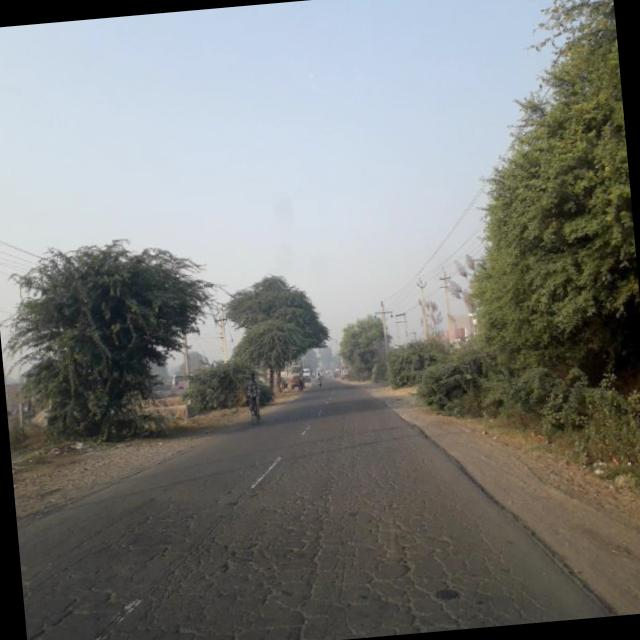crack: (13, 431, 528, 640)
